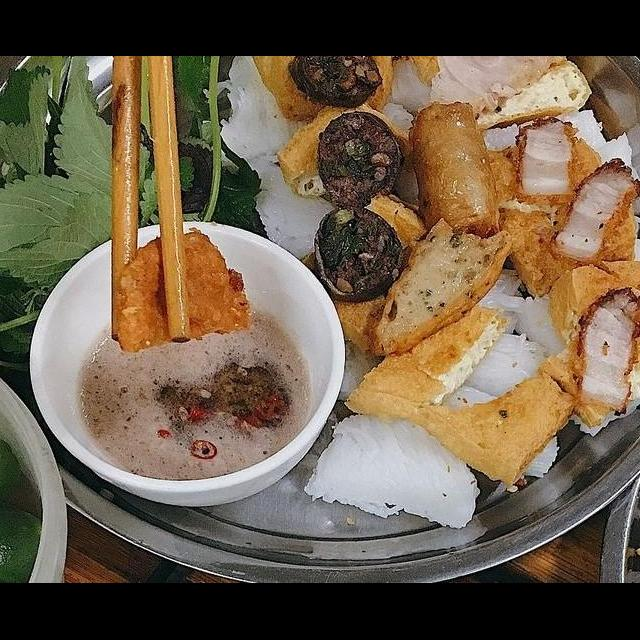bun: (204, 58, 342, 262), (304, 408, 490, 534)
bun dau: (0, 84, 640, 536)
cha com: (109, 222, 258, 356)
cha gio: (404, 88, 508, 234)
dau hu: (336, 302, 582, 492)
doi sun: (432, 356, 576, 488), (312, 106, 408, 208), (307, 194, 403, 296), (286, 58, 386, 110)
thit heo: (542, 159, 640, 266), (562, 280, 640, 414), (516, 110, 574, 206)
